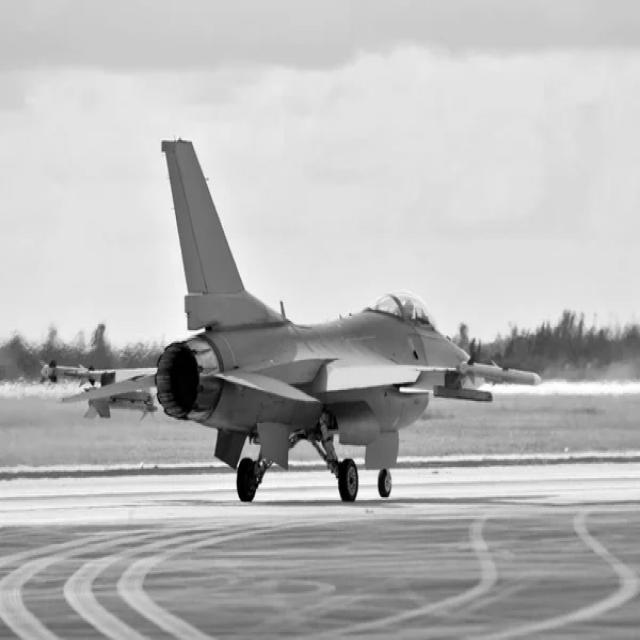Aircraft: (51, 130, 544, 517)
